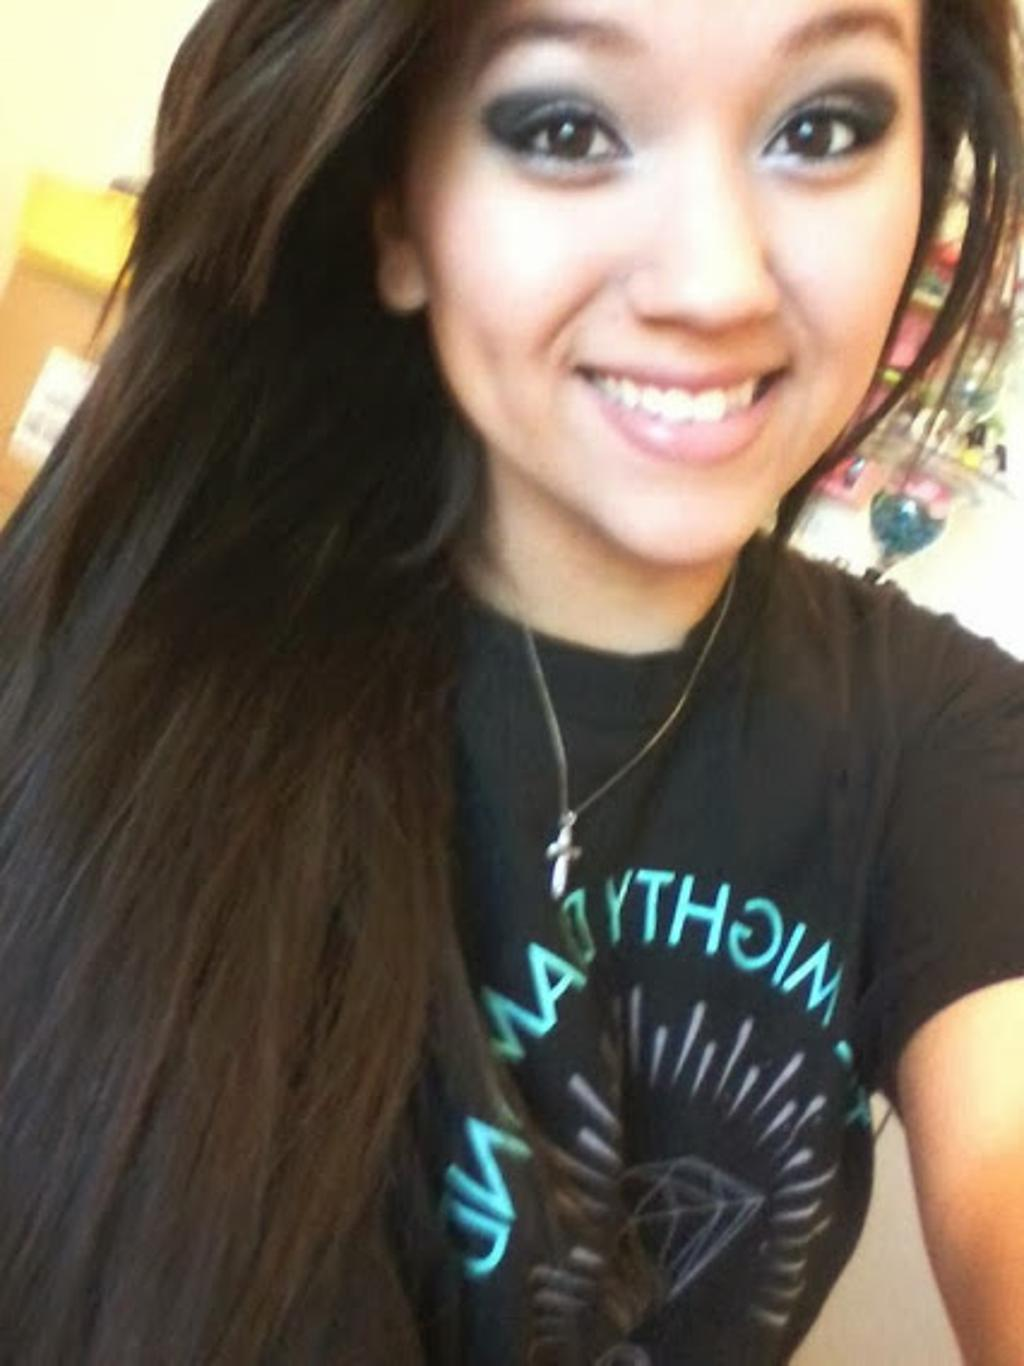face: (432, 13, 925, 565)
